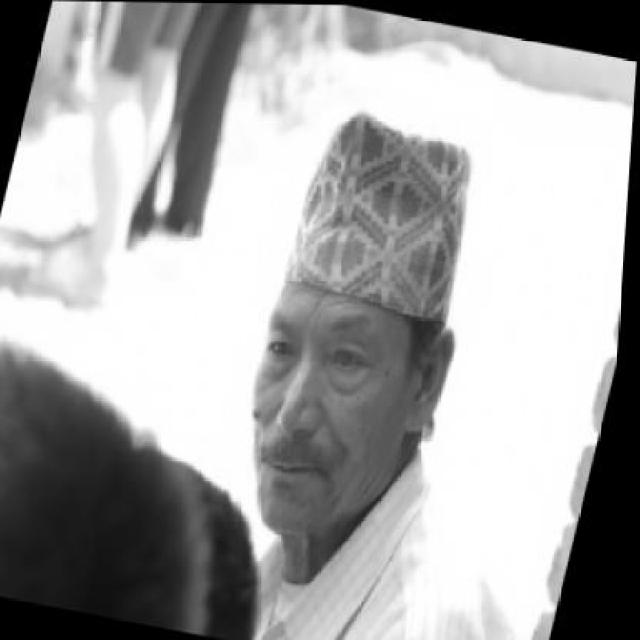hat: (268, 93, 497, 329)
